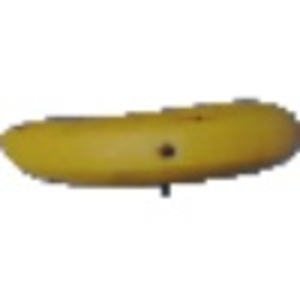banana: (2, 92, 297, 188)
